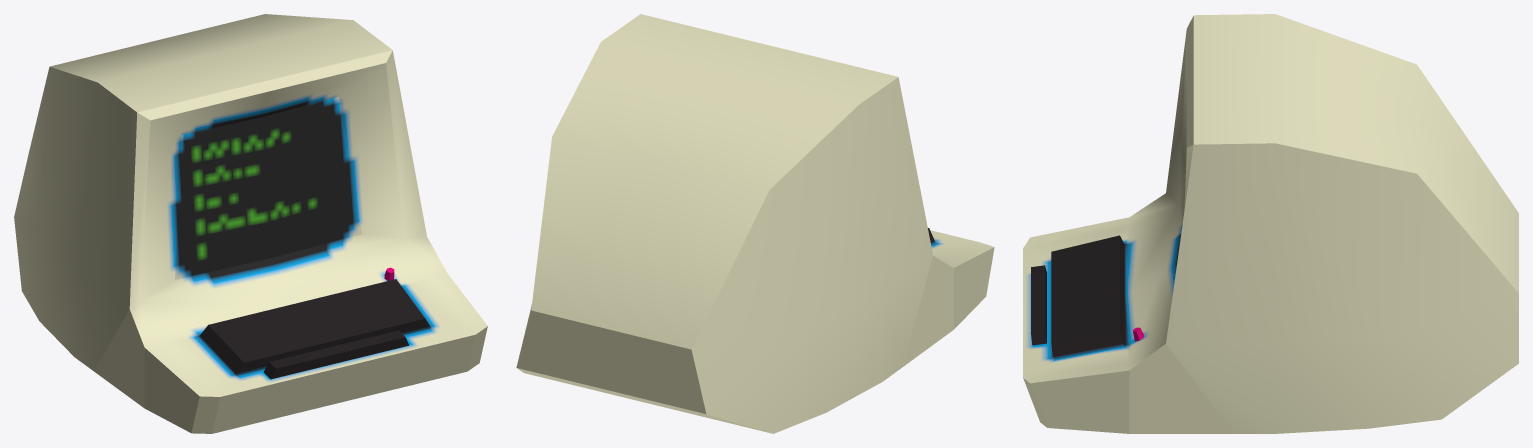
File: LR_adm3a.fbx
The picture shows the model from 3 angles, left to right: view 1: azimuth 30°, elevation 25°; view 2: azimuth 150°, elevation 25°; view 3: azimuth 270°, elevation 25°; orthographic projection. The views are drawn at different scales.
Visible parts, largest first — view 1: LR_T_computer_1, LR_T_spacebar_1; view 2: LR_T_computer_1; view 3: LR_T_computer_1, LR_T_spacebar_1.
Part boxes in pixels (box(x1,y1,x2,y2)): LR_T_computer_1: box(14, 14, 487, 433); LR_T_spacebar_1: box(263, 330, 409, 379); LR_T_computer_1: box(516, 14, 994, 433); LR_T_computer_1: box(1023, 14, 1518, 433); LR_T_spacebar_1: box(1031, 265, 1046, 345).
Size of the model in its own units: 2.47 by 2.09 by 3.37.
